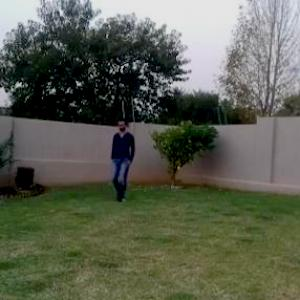follow: (108, 116, 136, 204)
